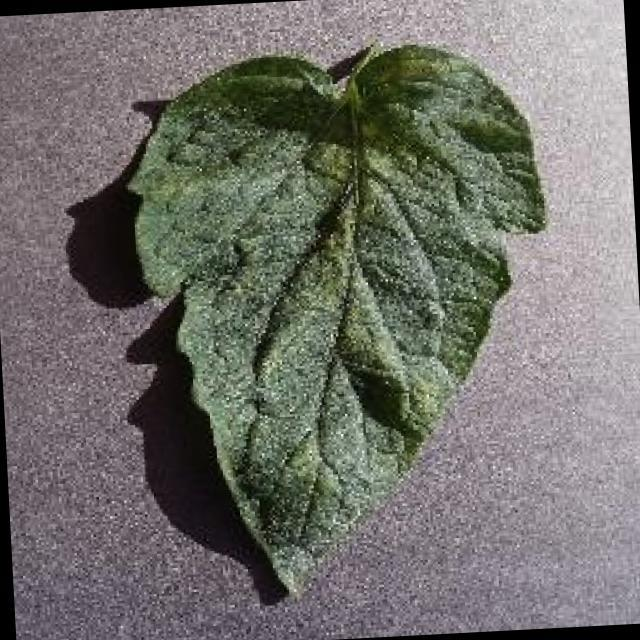Tomato spider mites leaf: (118, 37, 565, 613)
